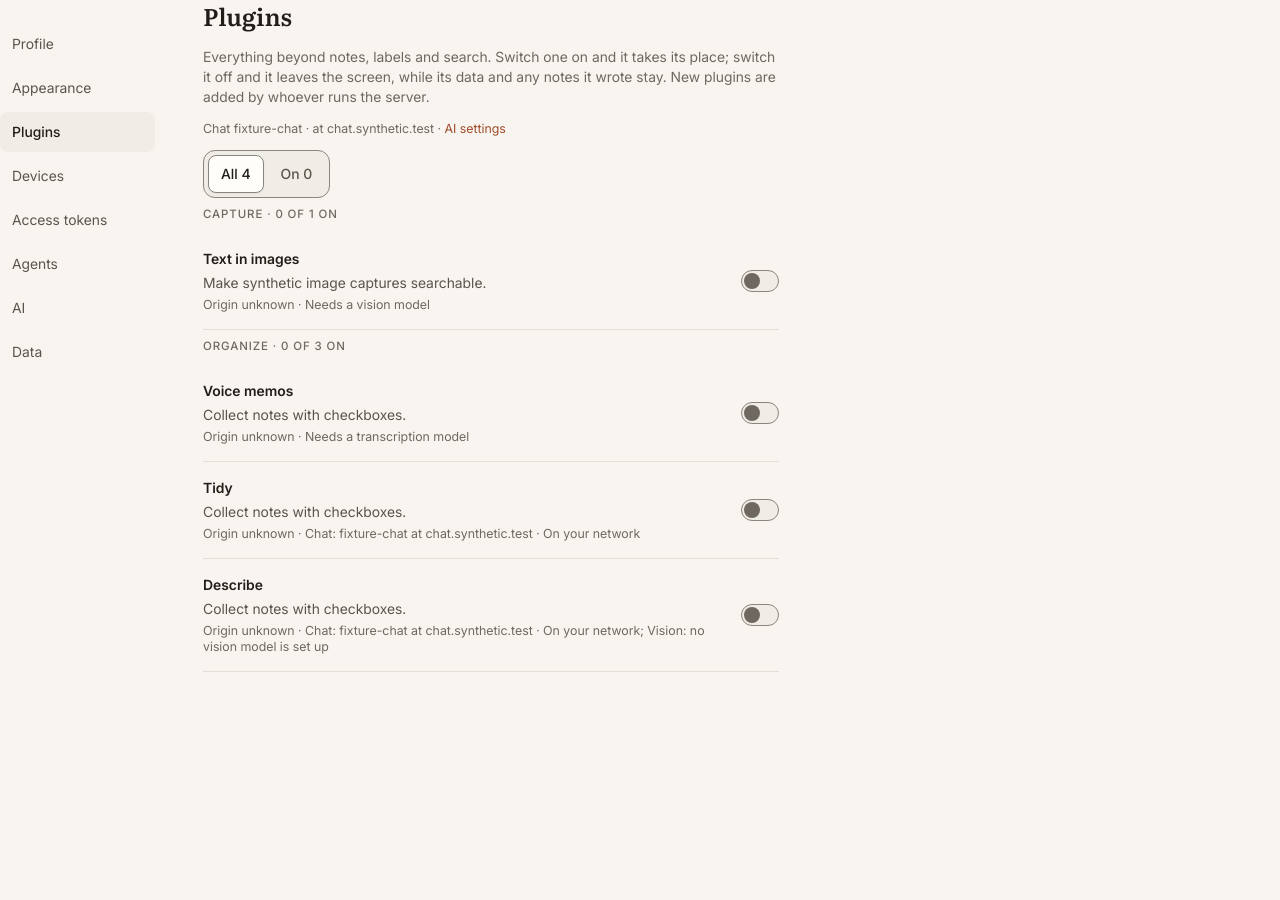
Test: plugin lifecycle controls › names only the missing capability when other AI models are configured
The image size is (1280, 900).
Expected: the text "Origin unknown · Needs a vision model" is shown, 203,296 -> 430,312
Expected: the text "Origin unknown · Needs a transcription model" is shown, 203,429 -> 469,444
Step 1. Click the switch named "Enable Text in images" → (760, 280), box 738,258 -> 782,302
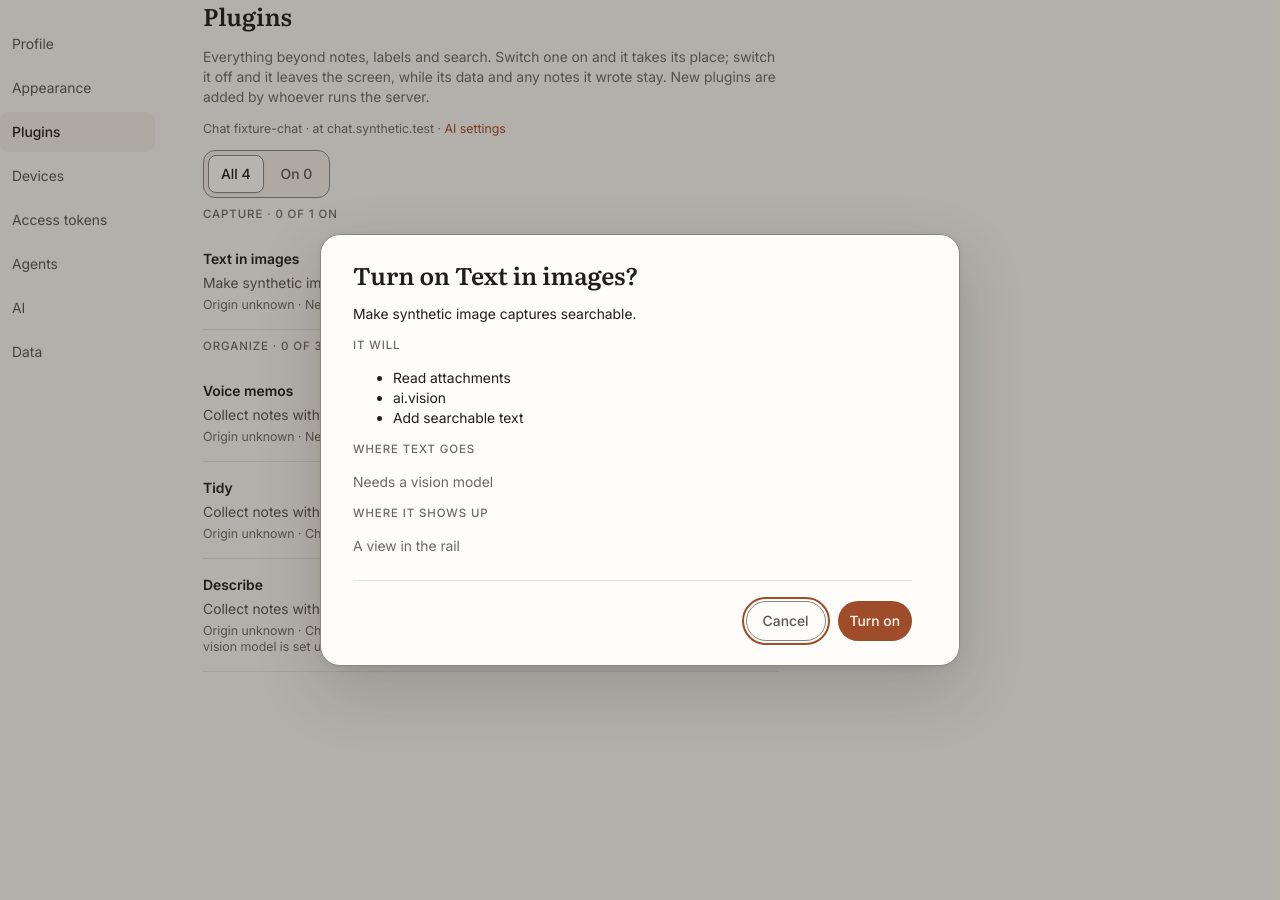
Expected: the text "Needs a vision model" is shown, 353,473 -> 493,490
